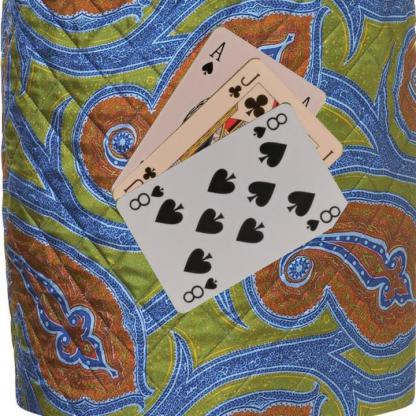8s: (250, 109, 289, 140), (180, 274, 219, 304)
As: (198, 38, 227, 76)
Jc: (225, 70, 262, 99)
